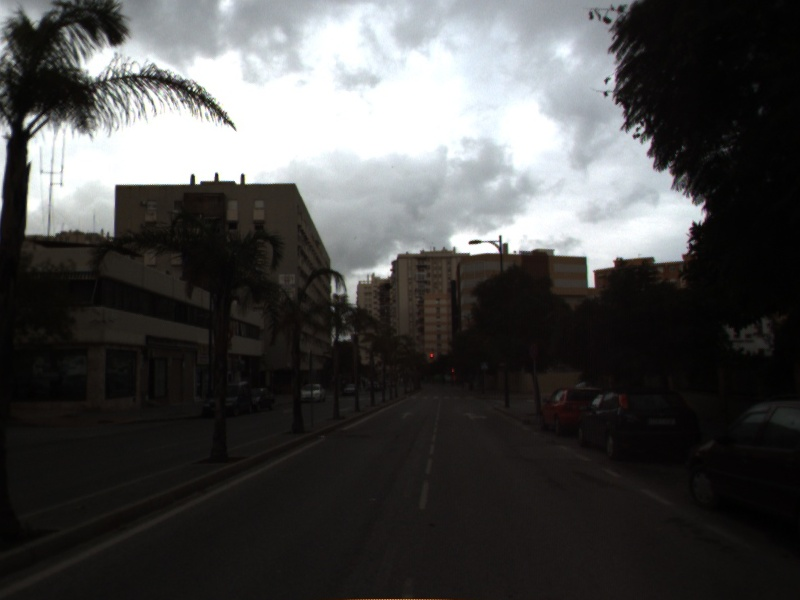STRAIGHT: (399, 409, 415, 421)
STRAIGHT_RIGHT: (461, 410, 490, 422)
